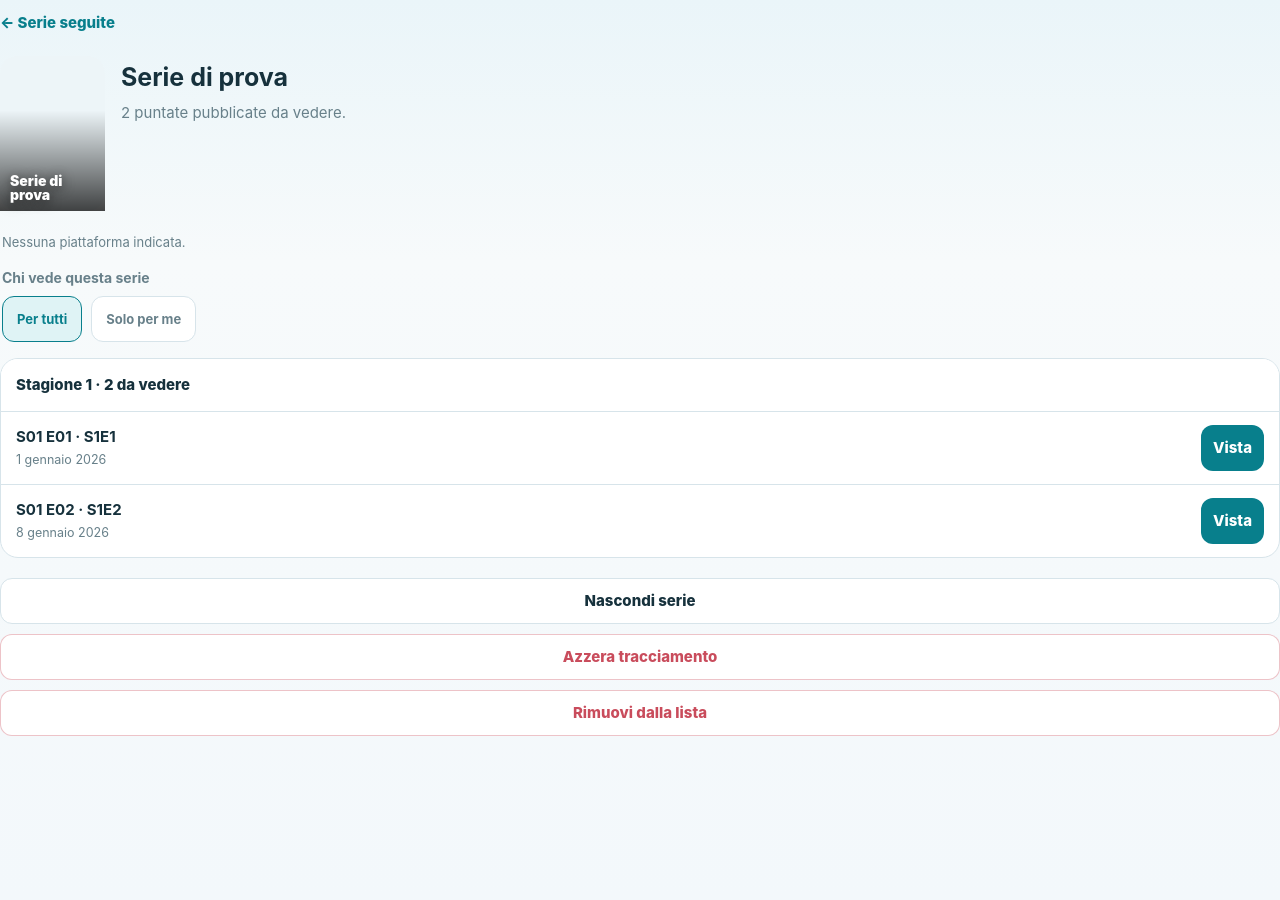
ShowDetailView — azzeramento del tracciamento › apre il dialogo con il picker e la conferma nella variante rossa
Click the button with class "reset" at [640, 657], box 0,634 -> 1279,680
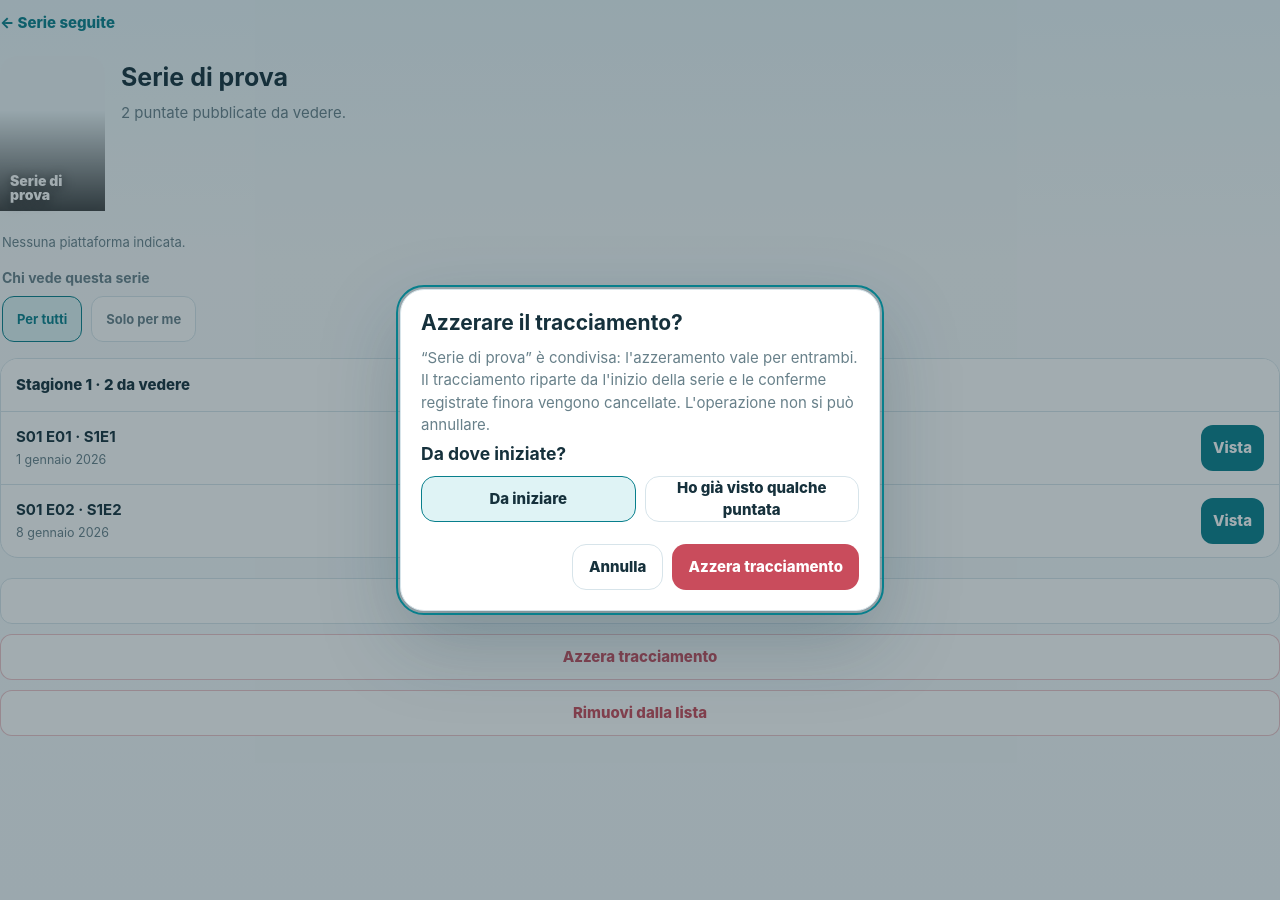
Check: the element showing "Da dove iniziate? Da iniziare Ho già visto qualche puntata" is shown, box 421,440 -> 859,522
Check: the button with class "accept-confirm--danger" is shown, box 672,544 -> 859,590
